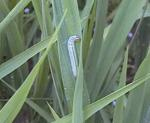pest: (67, 35, 80, 77)
